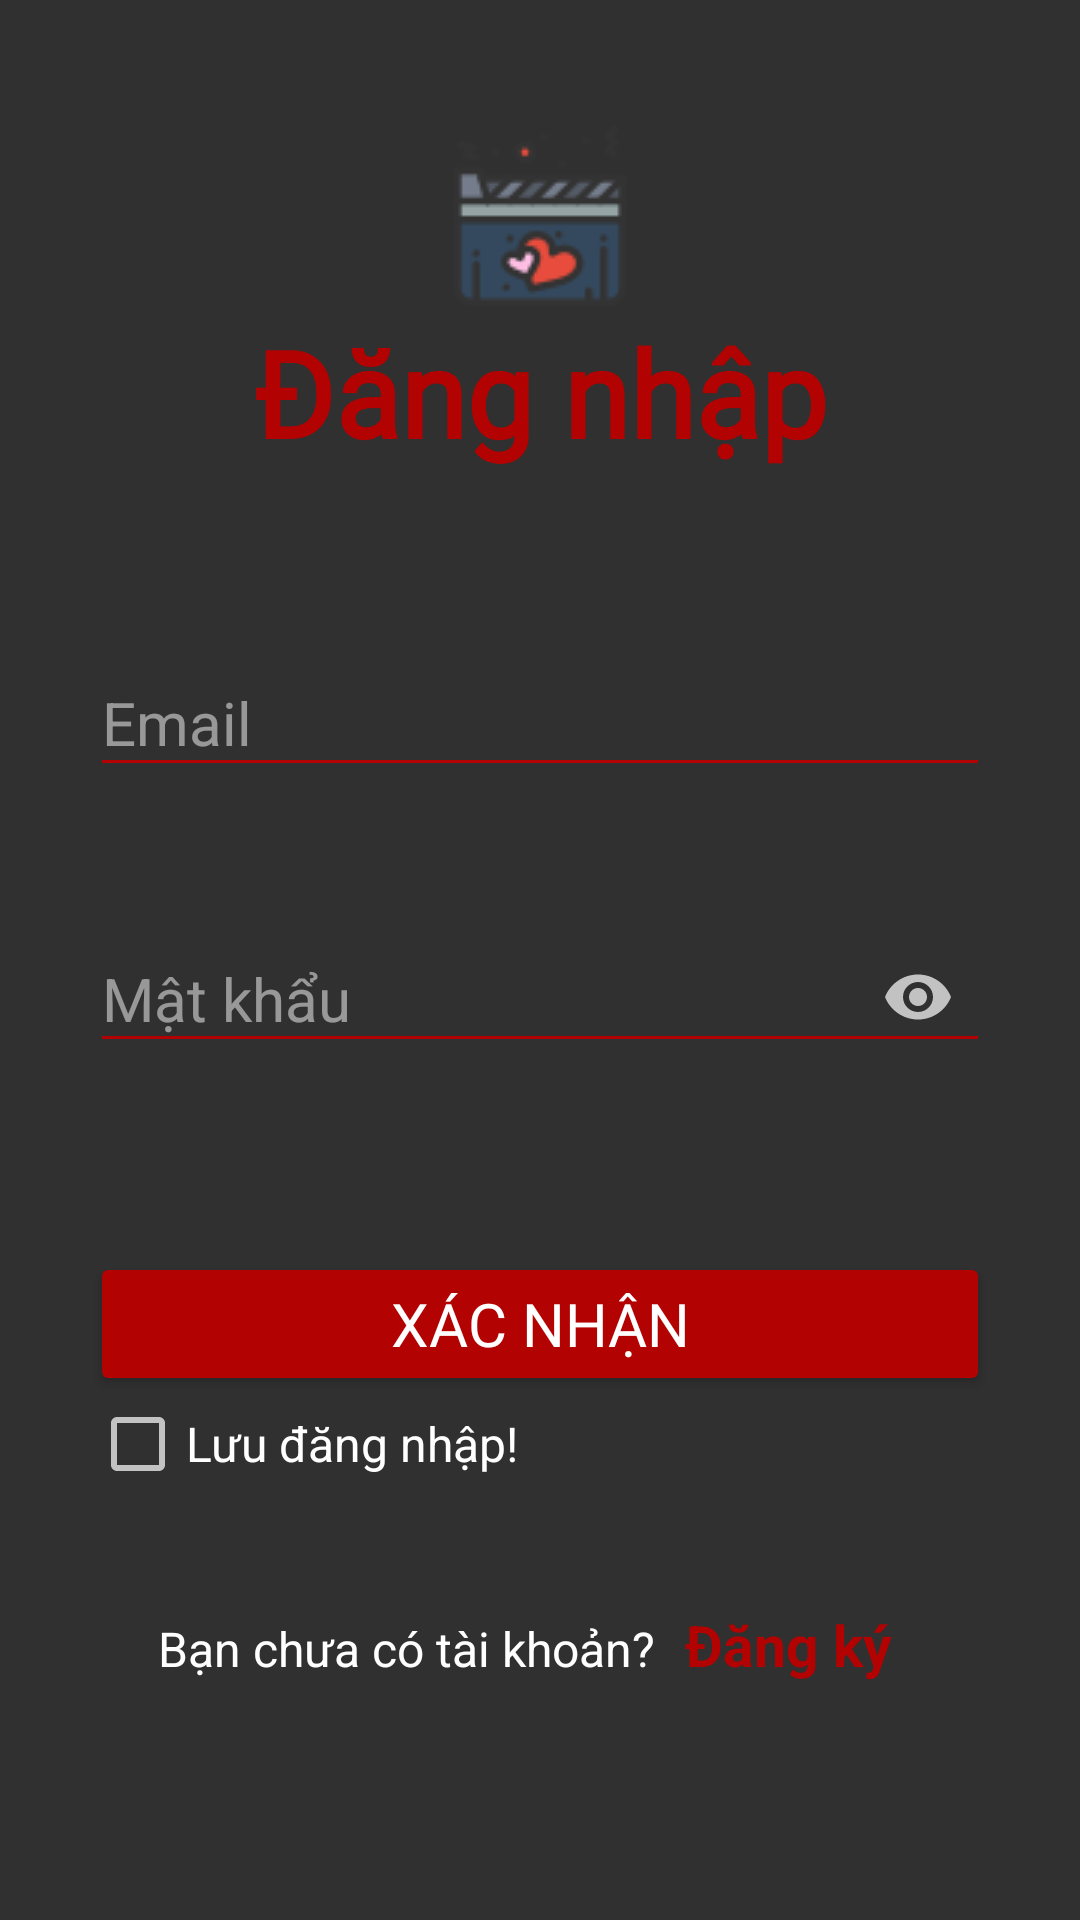

Screen size 1080*1920. Icon name, then its box in pixels as (x1, y1, x2, y2):
film: (460, 147, 620, 299)
